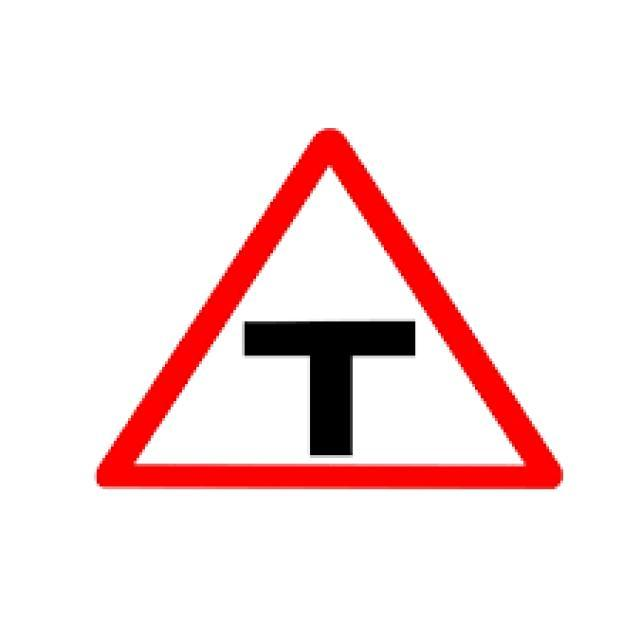t intersection: (92, 126, 563, 490)
